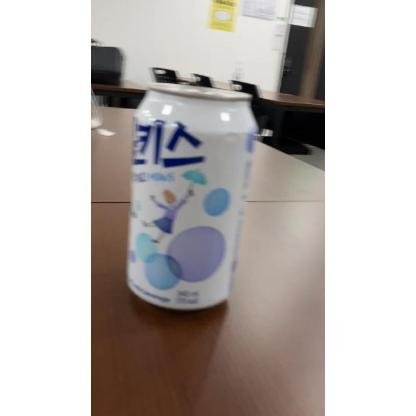Can: (126, 81, 258, 310)
